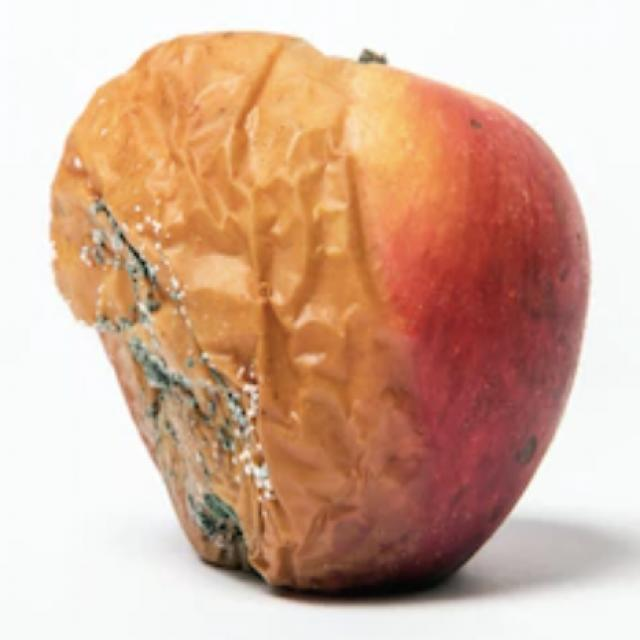Rotten: (72, 33, 575, 565)
